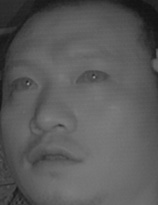eye: (74, 66, 108, 88), (9, 74, 40, 93)
mouth: (25, 140, 88, 174)
